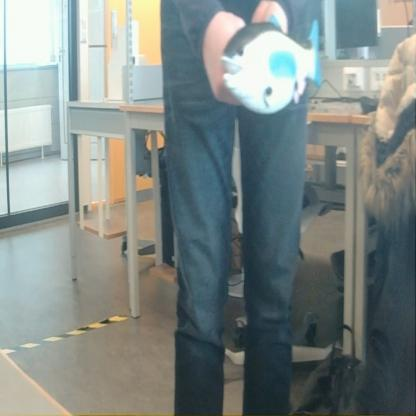rubberfish: (215, 10, 325, 118)
